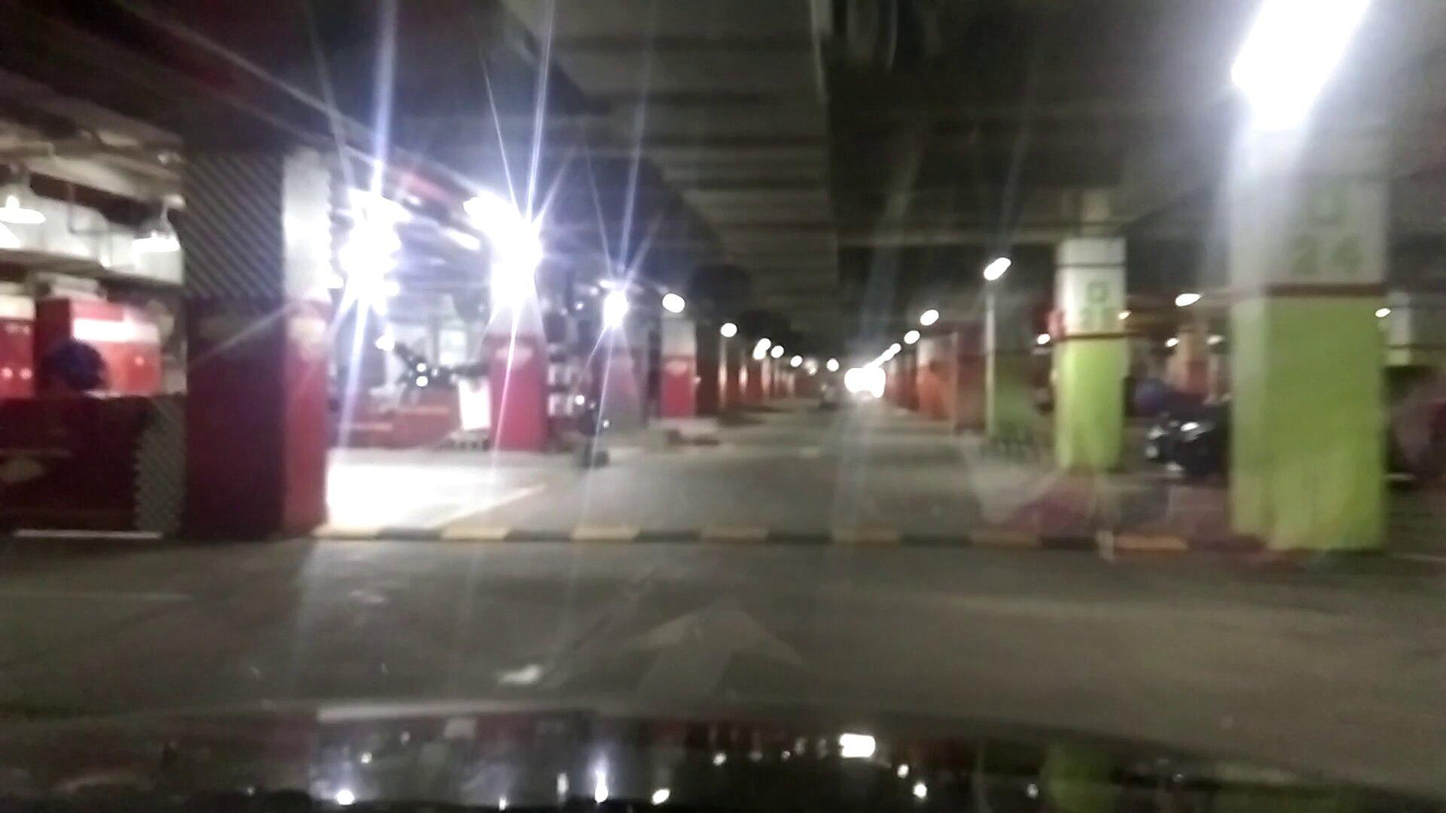Bump: (326, 510, 1271, 578)
